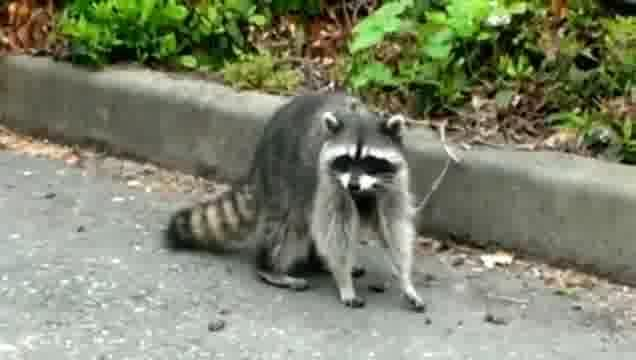raccoon: (166, 92, 430, 315)
